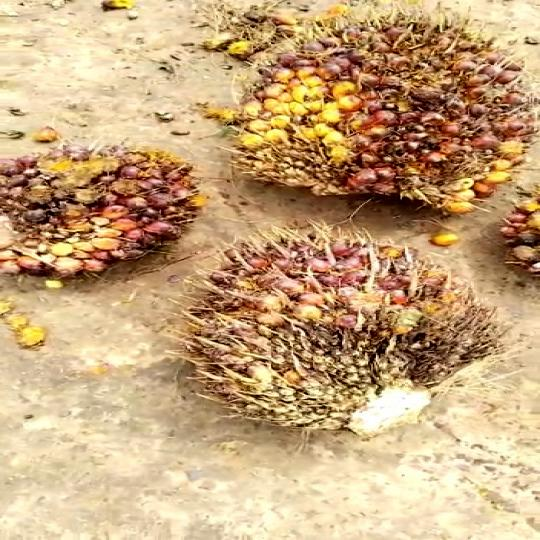masak: (165, 216, 492, 441), (203, 17, 540, 226), (0, 120, 198, 288)
